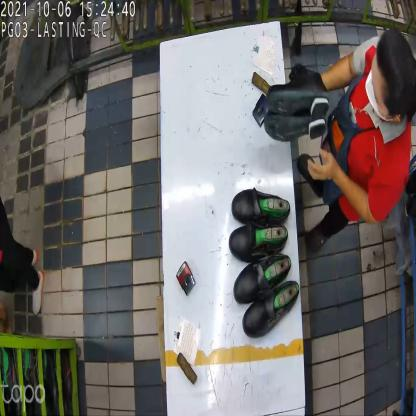shoes: (230, 255, 298, 339), (231, 186, 291, 258), (271, 70, 329, 137)
stamp: (250, 96, 272, 128), (179, 264, 196, 298)
